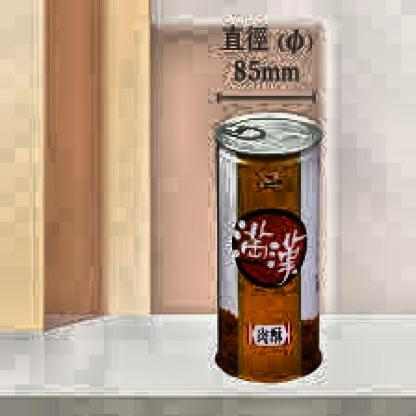Can: (212, 109, 326, 387)
